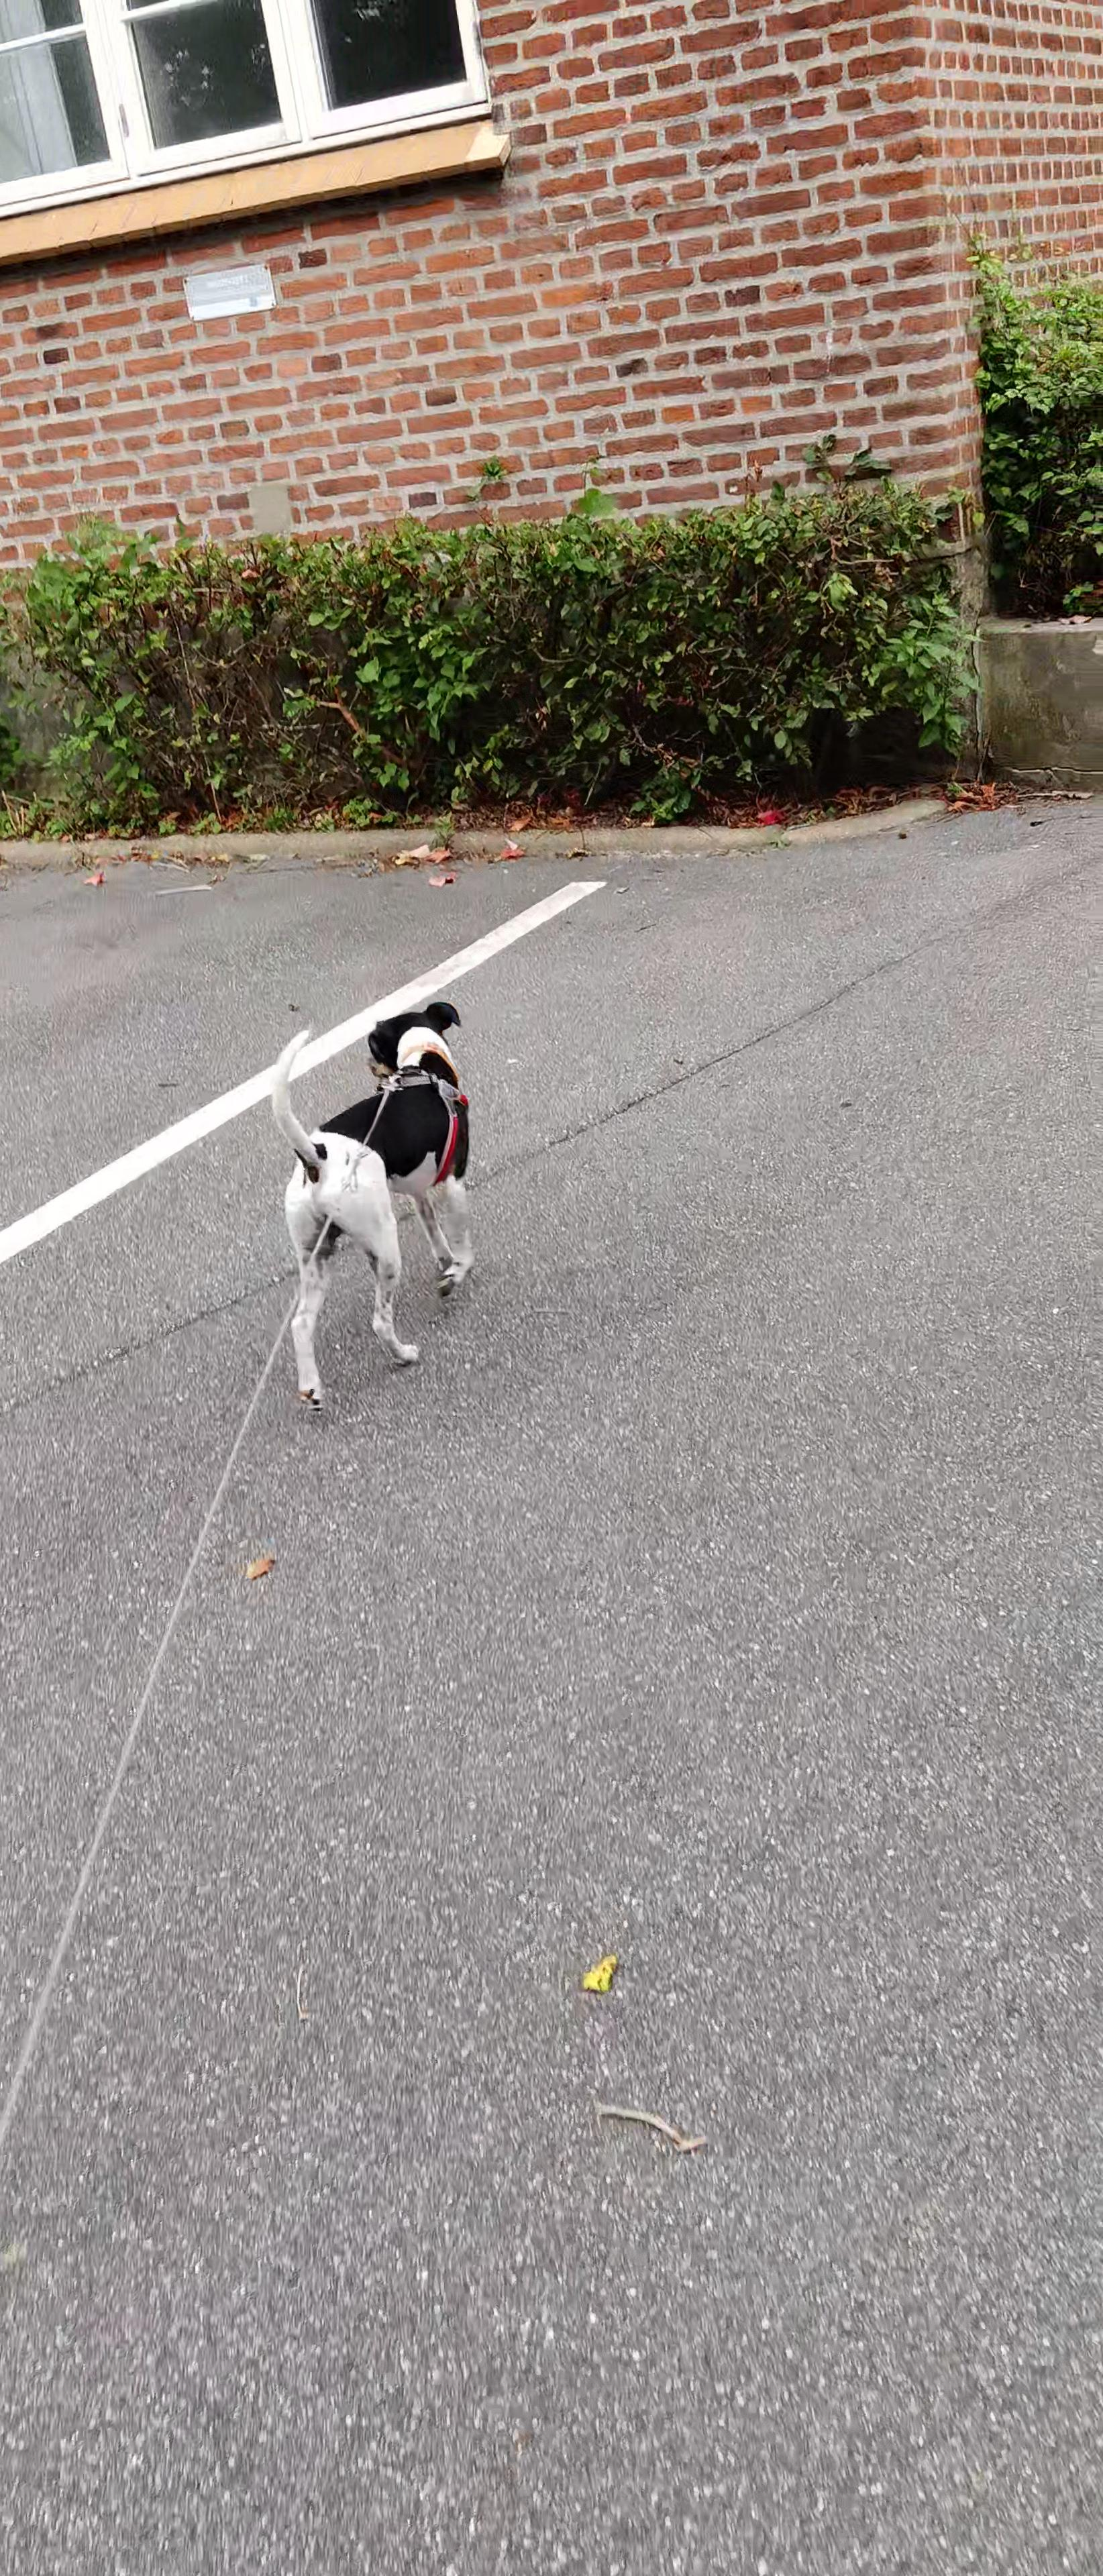Dog: (261, 991, 487, 1414)
